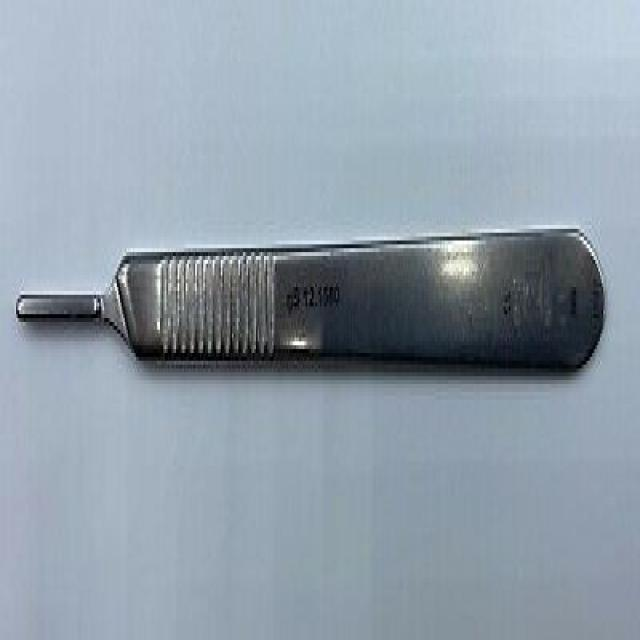Surgical blade: (10, 220, 609, 392)
